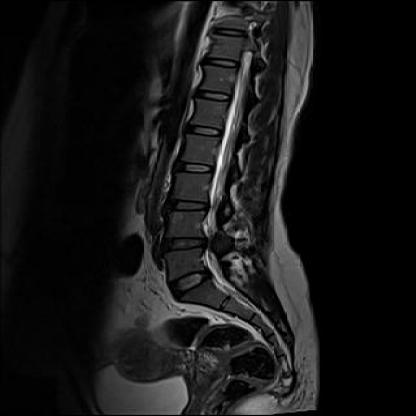Degenerative Disc Diseaserotation: (167, 236, 208, 252)
Disc Herniationrotation: (166, 236, 207, 252)
